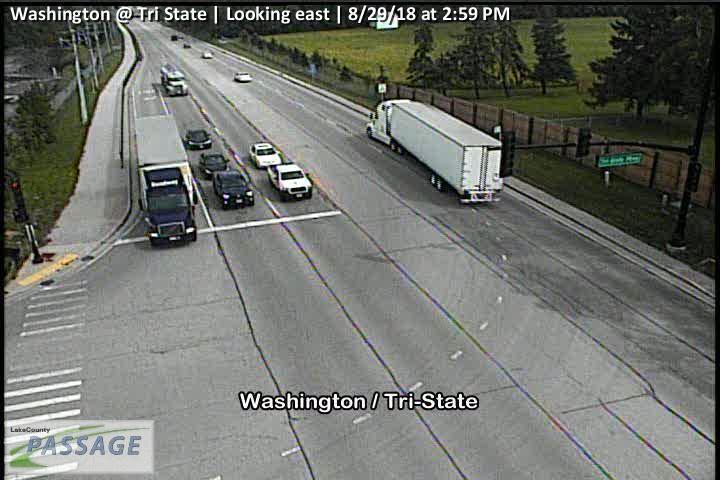SUV: (211, 169, 257, 211)
Sedan: (248, 140, 284, 168), (199, 152, 233, 179), (183, 126, 213, 151), (234, 70, 251, 83)
Truck: (365, 96, 506, 205), (131, 113, 199, 247), (266, 160, 314, 202), (159, 60, 190, 96)
